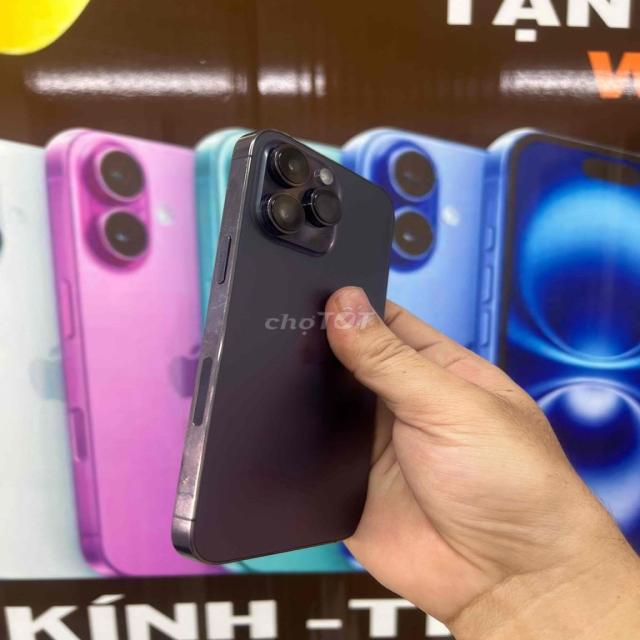gen_14: (161, 125, 410, 576)
scratch: (166, 419, 212, 537), (203, 194, 240, 331)
